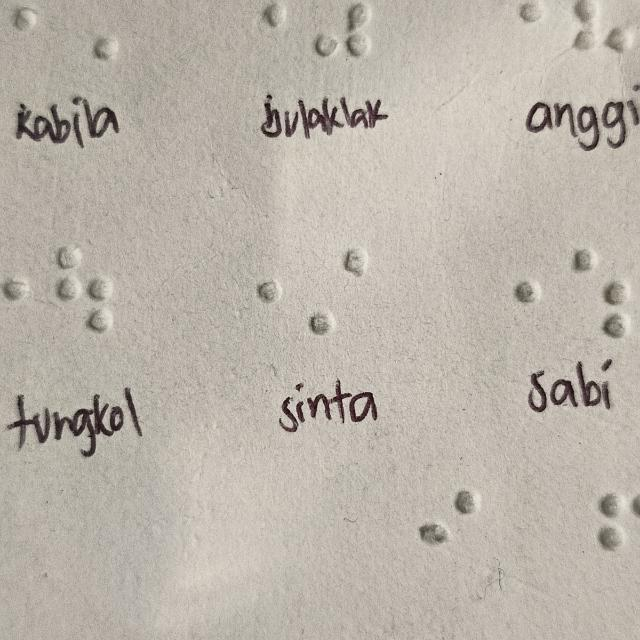dot_5: (221, 244, 287, 338), (477, 241, 543, 335)
sabi: (567, 243, 632, 338)
sinta: (305, 243, 371, 338)
